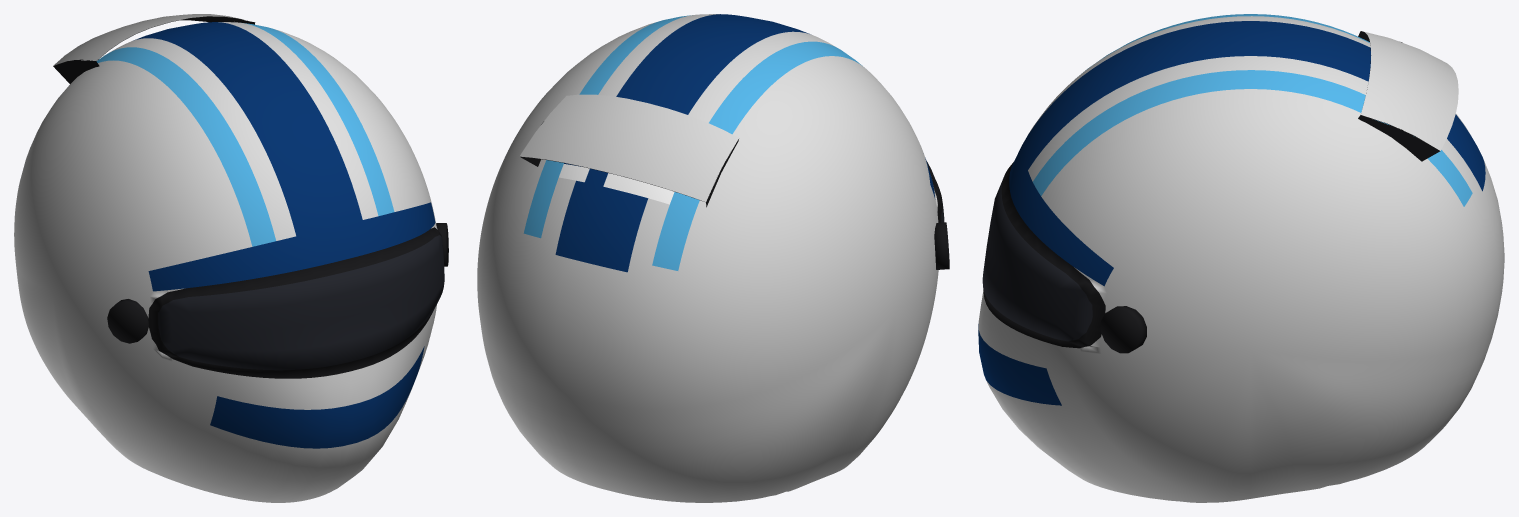
Rendered from BOT.glb.
3 renders of one model, left to right at view 1: azimuth 30°, elevation 25°; view 2: azimuth 150°, elevation 25°; view 3: azimuth 270°, elevation 25°, orthographic. The views are drawn at different scales.
Parts seen in each view (by area): view 1: helmet; view 2: helmet; view 3: helmet.
Boxes of the visible parts, x1,y1,x2,y2 form: helmet: (14, 14, 448, 502); helmet: (477, 14, 949, 502); helmet: (978, 14, 1504, 502).
Size of the model in its own units: 0.256 by 0.2772 by 0.3111.
